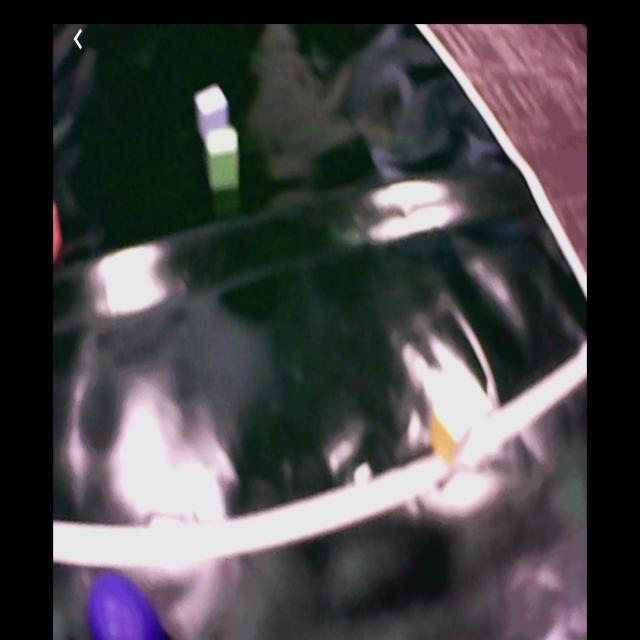ball: (86, 575, 159, 640)
